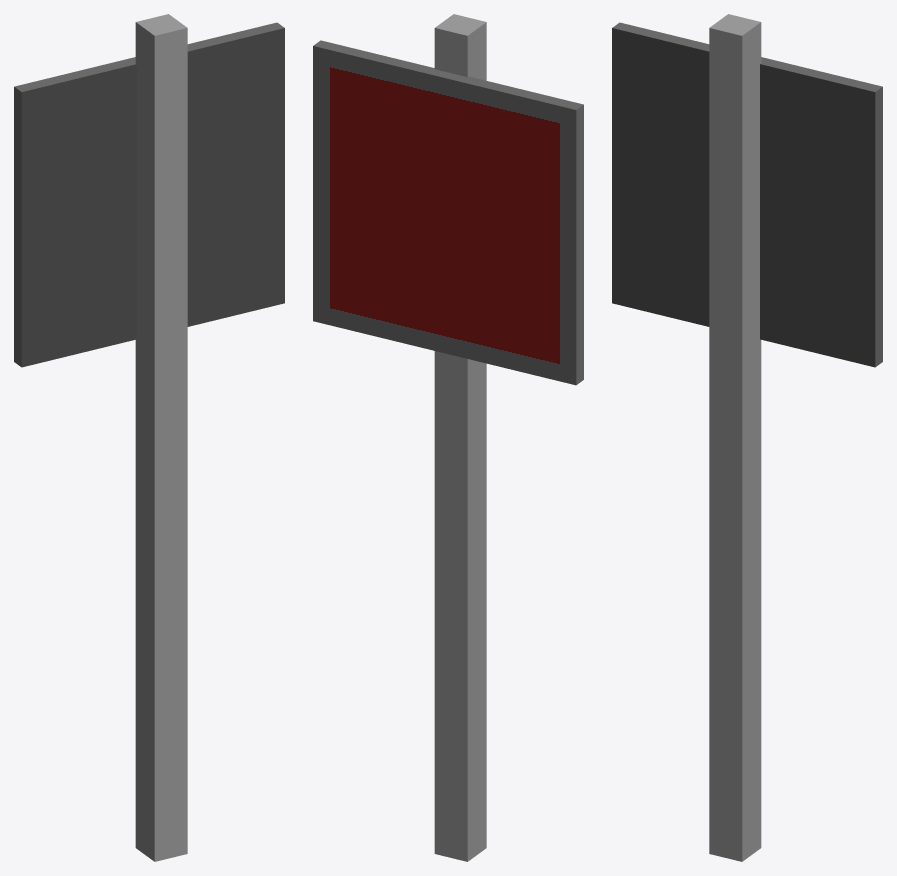
The model's file is stopsign.obj.
3 renders of one model, left to right at view 1: azimuth 30°, elevation 25°; view 2: azimuth 150°, elevation 25°; view 3: azimuth 330°, elevation 25°, orthographic.
Parts seen in each view (by area): view 1: cube.002, cube.001, cube, cube.000; view 2: cube.002, cube, cube.000, cube.001; view 3: cube.002, cube.001, cube, cube.000.
Boxes of the visible parts, bbox=[...] form: cube.002: bbox=[14, 22, 284, 367]; cube.001: bbox=[135, 14, 187, 310]; cube: bbox=[135, 573, 187, 861]; cube.000: bbox=[135, 298, 187, 586]; cube.002: bbox=[313, 40, 583, 385]; cube: bbox=[434, 573, 486, 861]; cube.000: bbox=[434, 351, 486, 586]; cube.001: bbox=[434, 14, 486, 80]; cube.002: bbox=[612, 22, 882, 367]; cube.001: bbox=[709, 14, 761, 310]; cube: bbox=[709, 573, 761, 861]; cube.000: bbox=[709, 298, 761, 586].
Bounding box in the file's own units: 1.33 × 3.99 × 0.2234.
